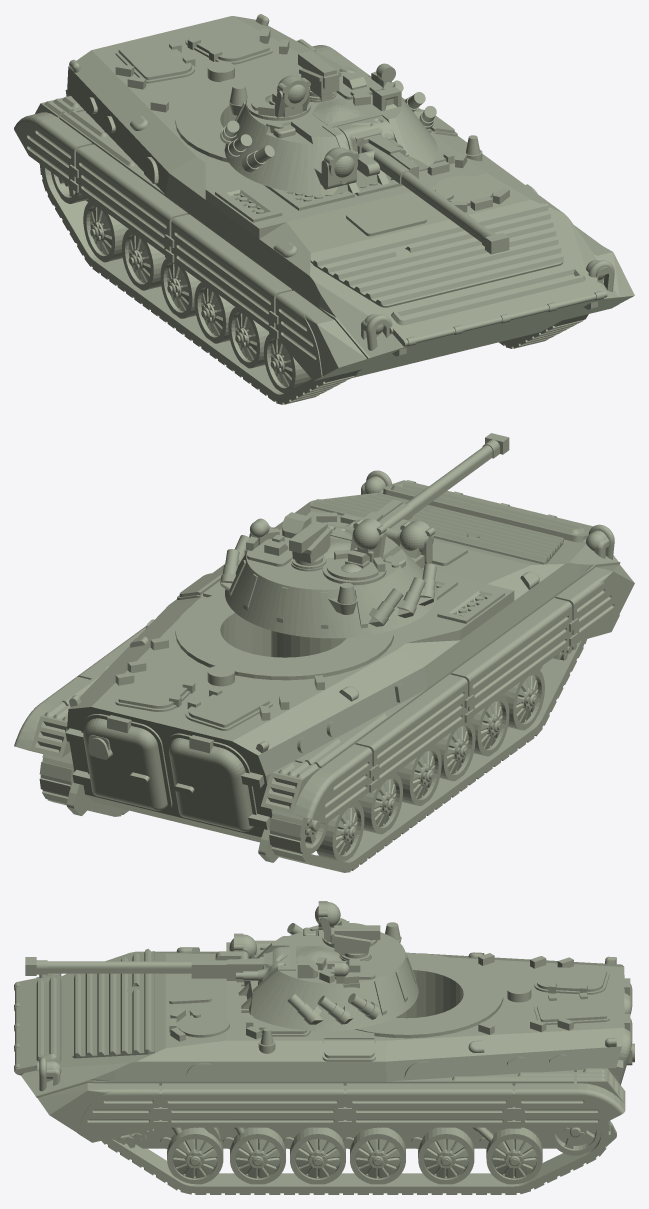
File: bmp2_bergman.glb
3 views of the same model, one above another, from view 1: azimuth 30°, elevation 25°; view 2: azimuth 150°, elevation 25°; view 3: azimuth 270°, elevation 25° (orthographic). The views are drawn at different scales.
Parts seen in each view (by area): view 1: HullMesh, TurretMesh; view 2: HullMesh, TurretMesh; view 3: HullMesh, TurretMesh.
Boxes of the visible parts, x1,y1,x2,y2 form: HullMesh: (14,14,634,404); TurretMesh: (220,51,509,254); HullMesh: (14,470,634,872); TurretMesh: (220,433,509,657); HullMesh: (14,940,634,1194); TurretMesh: (25,901,418,1031).
Bounding box in the file's own units: 3.34 × 2.62 × 6.73.
